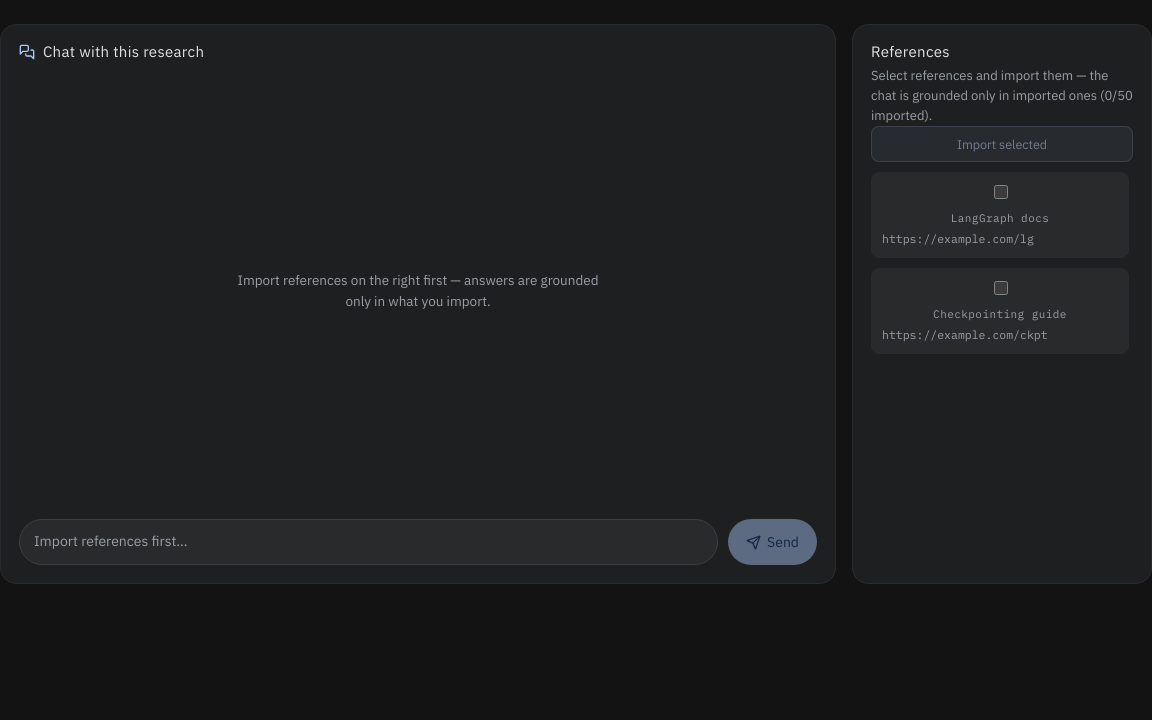
Test: ChatPanel citation chips › renders [S]/[W]/[L]/[R] markers as colored chips (R-293)
Expected: the text "LangGraph docs" is shown, [951,210,1049,227]
Click the checkbox labelled "LangGraph docs". click: {"x": 1000, "y": 192}
box: [994,185,1008,199]
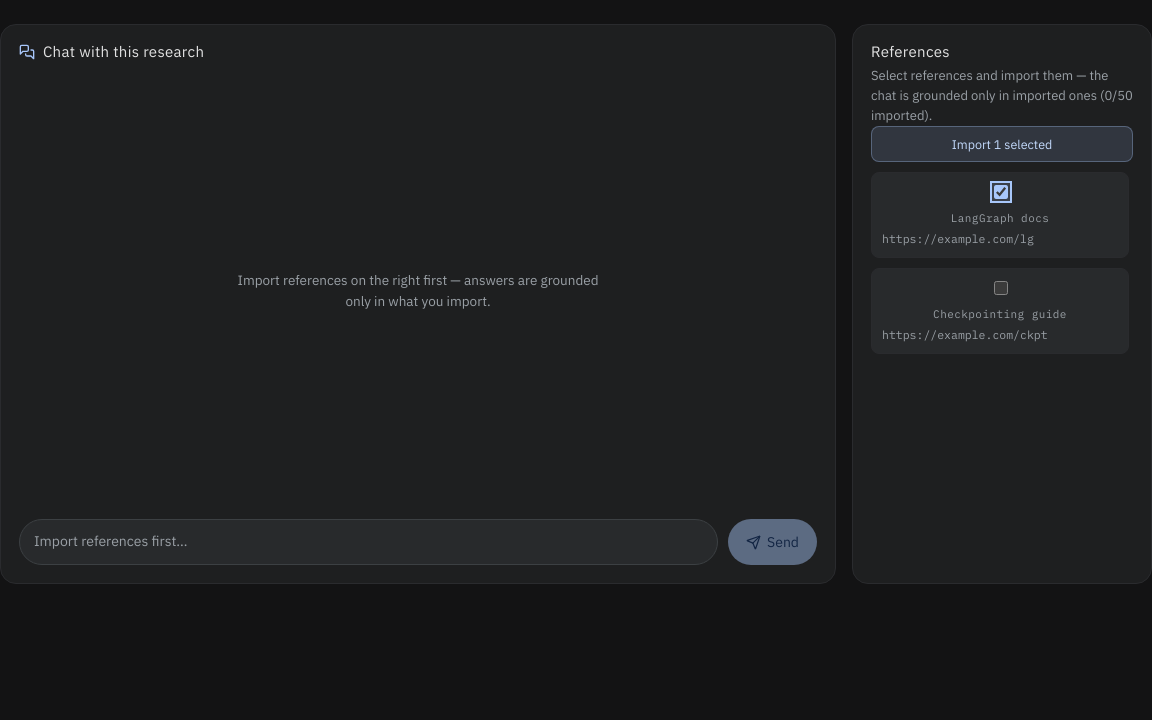
Click the button "Import 1 selected". click: {"x": 1002, "y": 144}
box: [871,126,1133,162]
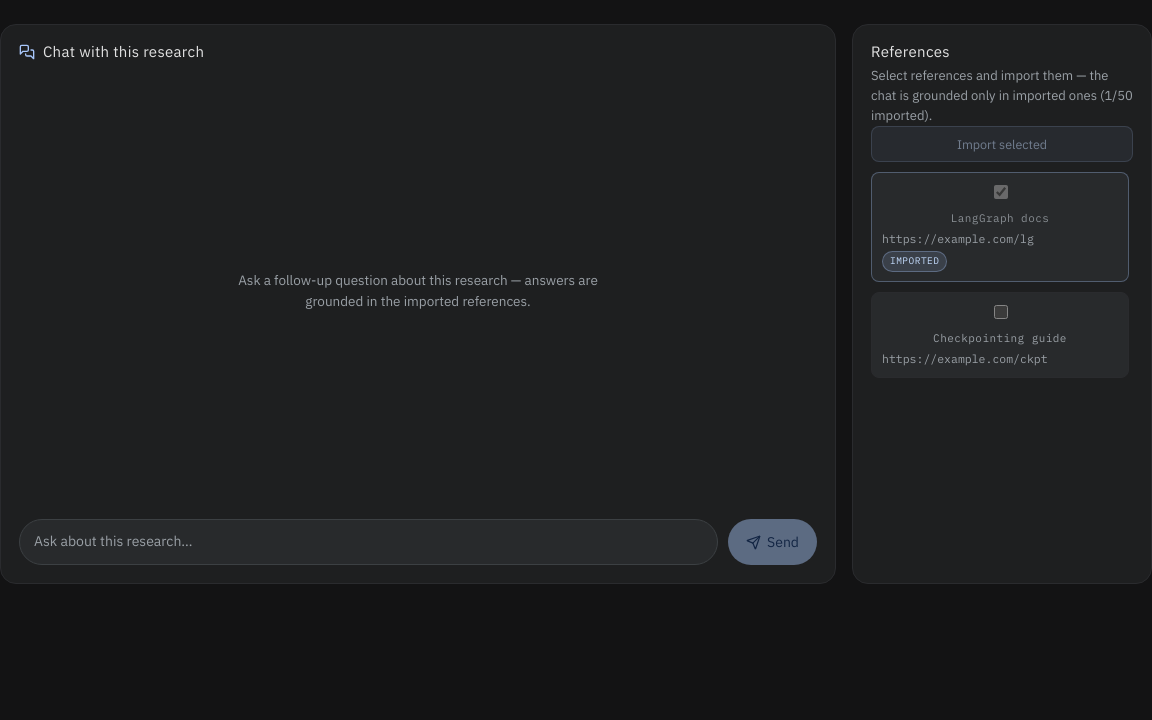
Type "q" into the field named "chat message". click: {"x": 369, "y": 542}
box: [19,519,718,565]
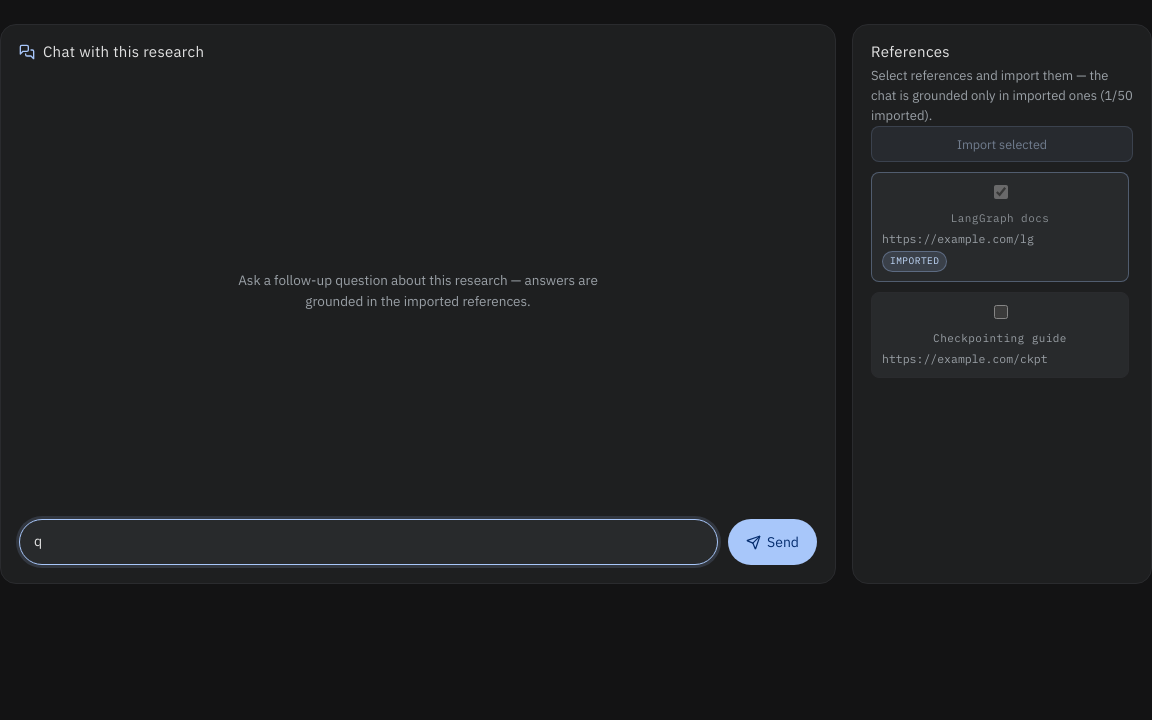
Click the button "Send". click: {"x": 773, "y": 542}
box: [728,519,817,565]
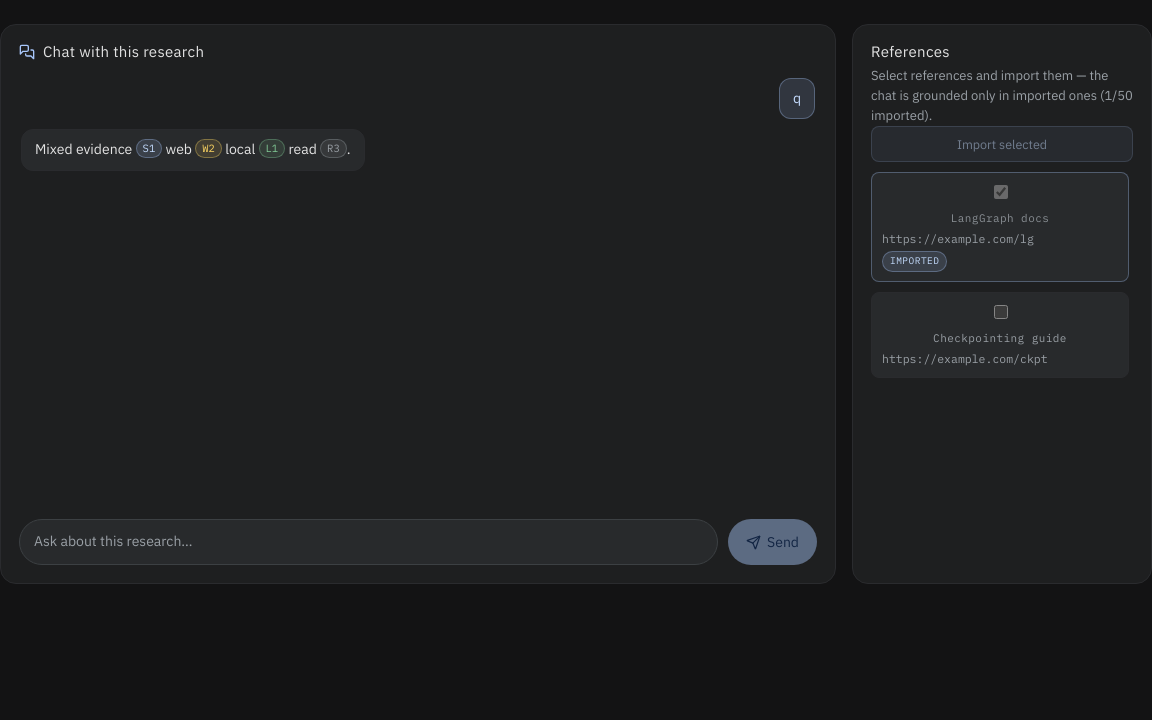
Now the text "S1" is shown 4 times, box [136,139,162,158]; [195,139,222,158]; [258,139,285,158]; [320,139,347,158]
